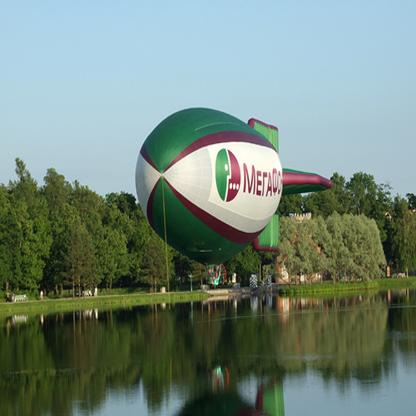Airship: (136, 110, 333, 266)
